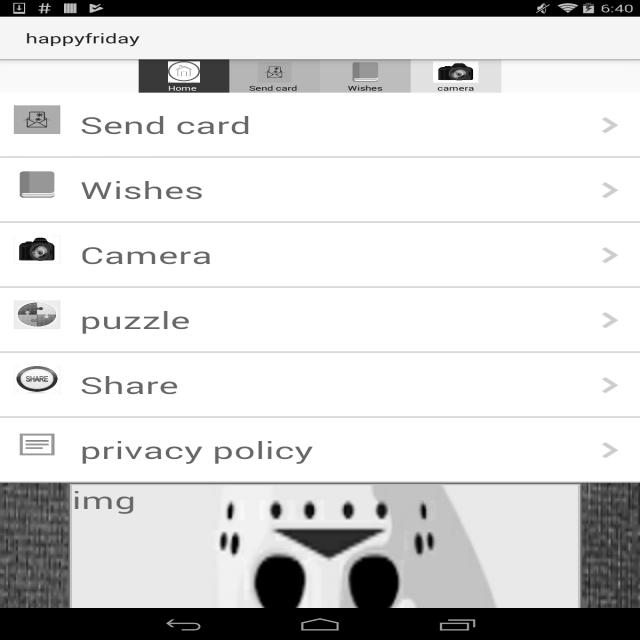ImageView: (158, 61, 210, 83), (249, 61, 300, 83), (340, 61, 391, 83), (431, 61, 482, 83)
TextView: (26, 29, 140, 47), (249, 83, 300, 93), (437, 83, 474, 93), (348, 83, 382, 93), (168, 83, 199, 93)
